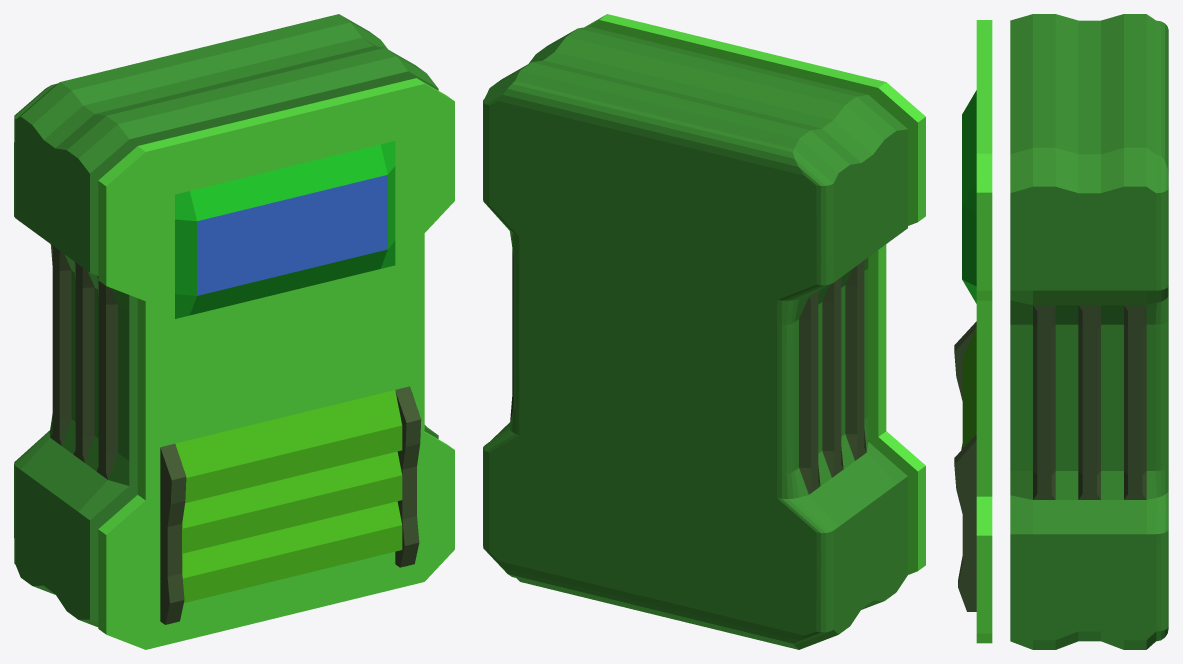
The model's file is carcasa_prototipo.glb.
The picture shows the model from 3 angles, left to right: view 1: azimuth 30°, elevation 25°; view 2: azimuth 150°, elevation 25°; view 3: azimuth 270°, elevation 25°; orthographic projection.
Parts seen in each view (by area): view 1: Tapa-Carcasa2, Carcasa2; view 2: Carcasa2, Tapa-Carcasa2; view 3: Carcasa2, Tapa-Carcasa2.
Boxes of the visible parts, x1,y1,x2,y2 form: Tapa-Carcasa2: (98, 78, 454, 649); Carcasa2: (14, 14, 438, 626); Carcasa2: (483, 26, 907, 649); Tapa-Carcasa2: (585, 14, 925, 574); Carcasa2: (1010, 14, 1168, 649); Tapa-Carcasa2: (954, 20, 992, 643).
Size of the model in its own units: 75.2 by 105 by 40.61.
